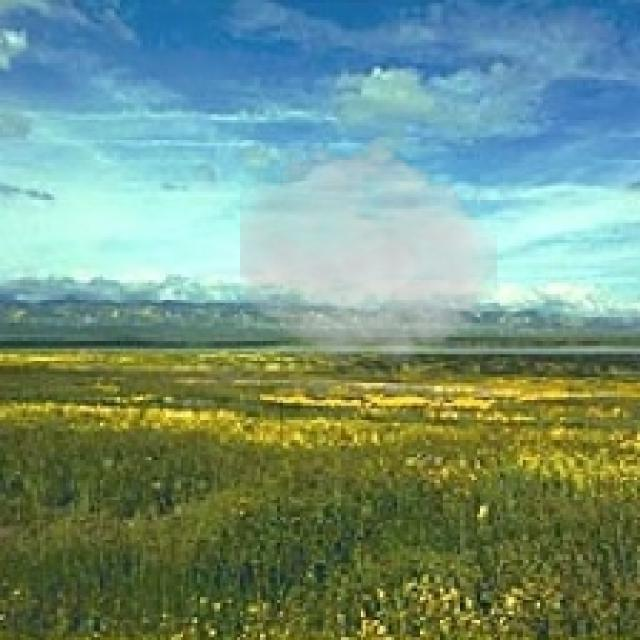Smoke: (240, 134, 497, 372)
